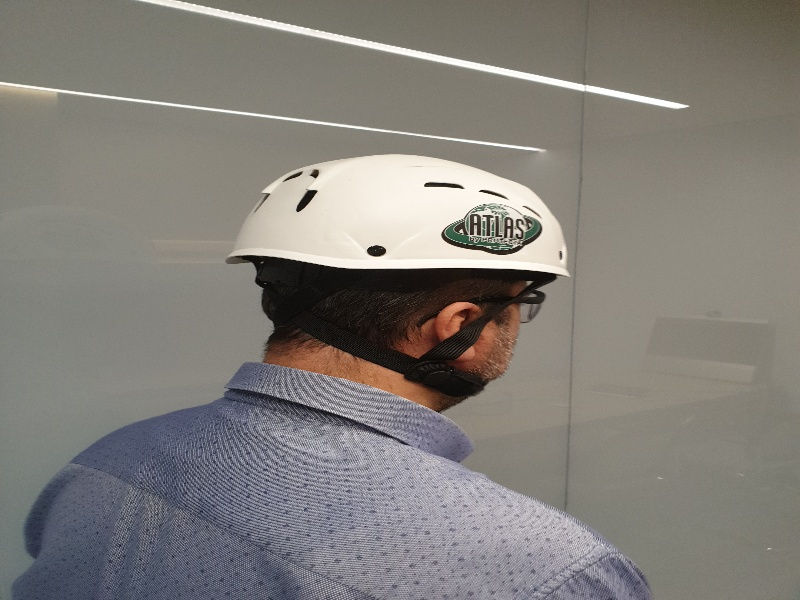Baret: (250, 151, 579, 285)
Gozluk: (499, 290, 552, 327)
